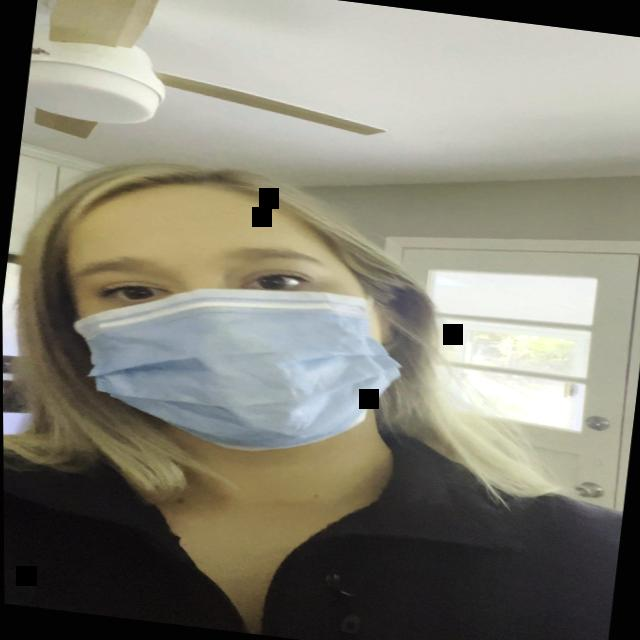Mask: (10, 166, 460, 488)
